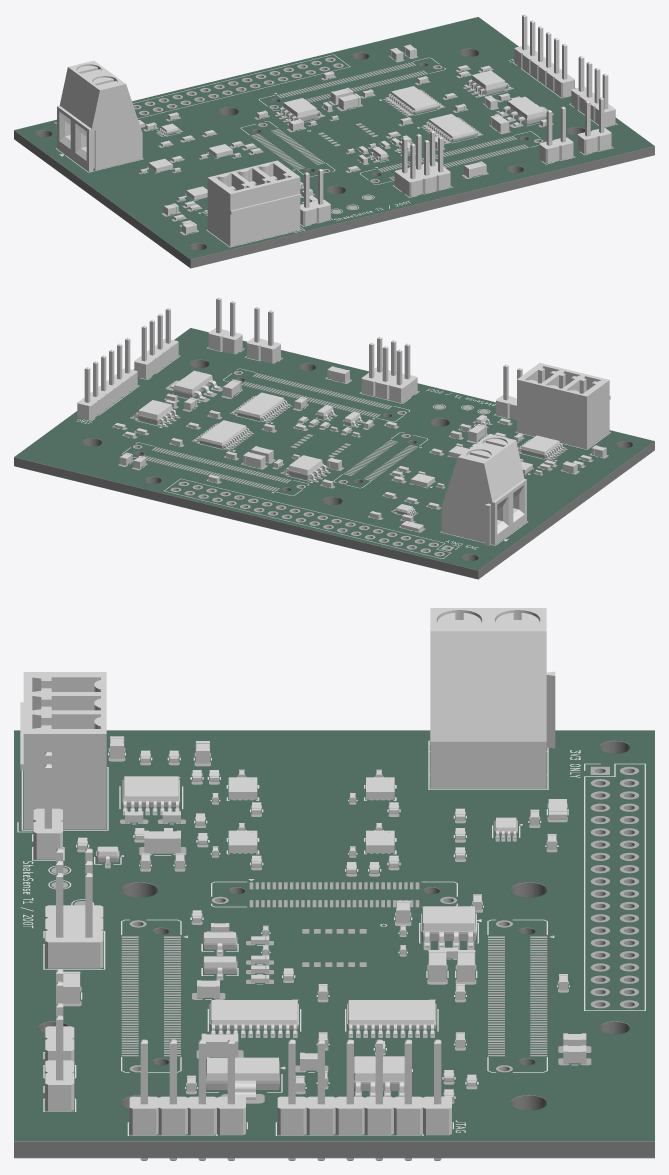
3 renders of one model, top to bottom at view 1: azimuth 30°, elevation 25°; view 2: azimuth 150°, elevation 25°; view 3: azimuth 270°, elevation 25°, orthographic. The views are drawn at different scales.
Visible parts, largest first — view 1: =>[0:1:1:25], =>[0:1:1:27], J83, J90, =>[0:1:1:22], J84, J85, =>[0:1:1:23], J4, JP80, JP81, JP1 (+6 smaller); view 2: =>[0:1:1:25], =>[0:1:1:27], =>[0:1:1:22], J83, J90, J84, J85, =>[0:1:1:23], J4, JP81, JP80, U41 (+7 smaller); view 3: =>[0:1:1:25], =>[0:1:1:27], J83, =>[0:1:1:22], J90, J84, J4, =>[0:1:1:23], J85, U41, U42, U40 (+8 smaller).
Part boxes in pixels (x1=…): =>[0:1:1:25]: x1=14, y1=17, x2=654, y2=259; =>[0:1:1:27]: x1=14, y1=18, x2=654, y2=268; J83: x1=57, y1=60, x2=142, y2=171; J90: x1=207, y1=160, x2=301, y2=246; =>[0:1:1:22]: x1=133, y1=52, x2=553, y2=235; J84: x1=514, y1=14, x2=574, y2=97; J85: x1=394, y1=130, x2=450, y2=196; =>[0:1:1:23]: x1=54, y1=54, x2=617, y2=247; J4: x1=571, y1=56, x2=615, y2=126; JP80: x1=539, y1=106, x2=573, y2=163; JP81: x1=577, y1=97, x2=611, y2=154; JP1: x1=300, y1=169, x2=330, y2=225; =>[0:1:1:25]: x1=14, y1=328, x2=654, y2=570; =>[0:1:1:27]: x1=14, y1=329, x2=654, y2=579; =>[0:1:1:22]: x1=112, y1=371, x2=608, y2=556; J83: x1=441, y1=434, x2=526, y2=545; J90: x1=517, y1=363, x2=610, y2=448; J84: x1=77, y1=337, x2=137, y2=420; J85: x1=361, y1=336, x2=417, y2=402; =>[0:1:1:23]: x1=76, y1=347, x2=610, y2=558; J4: x1=134, y1=308, x2=178, y2=378; JP81: x1=208, y1=297, x2=242, y2=354; JP80: x1=247, y1=306, x2=280, y2=363; U41: x1=194, y1=420, x2=252, y2=449; =>[0:1:1:25]: x1=14, y1=730, x2=654, y2=1141; =>[0:1:1:27]: x1=14, y1=731, x2=654, y2=1157; J83: x1=430, y1=608, x2=555, y2=788; =>[0:1:1:22]: x1=51, y1=748, x2=638, y2=1103; J90: x1=20, y1=672, x2=106, y2=829; J84: x1=277, y1=1039, x2=451, y2=1160; J4: x1=129, y1=1039, x2=245, y2=1160; =>[0:1:1:23]: x1=17, y1=740, x2=645, y2=1135; J85: x1=45, y1=848, x2=103, y2=968; U41: x1=347, y1=1000, x2=436, y2=1035; U42: x1=209, y1=1000, x2=298, y2=1035; U40: x1=206, y1=1057, x2=279, y2=1099.
Size of the model in its own units: 0.085 by 0.0173 by 0.056.
